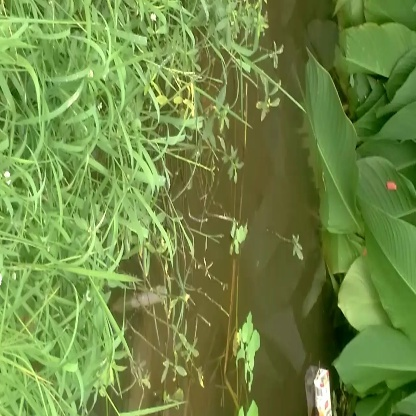grass: (6, 8, 260, 149)
